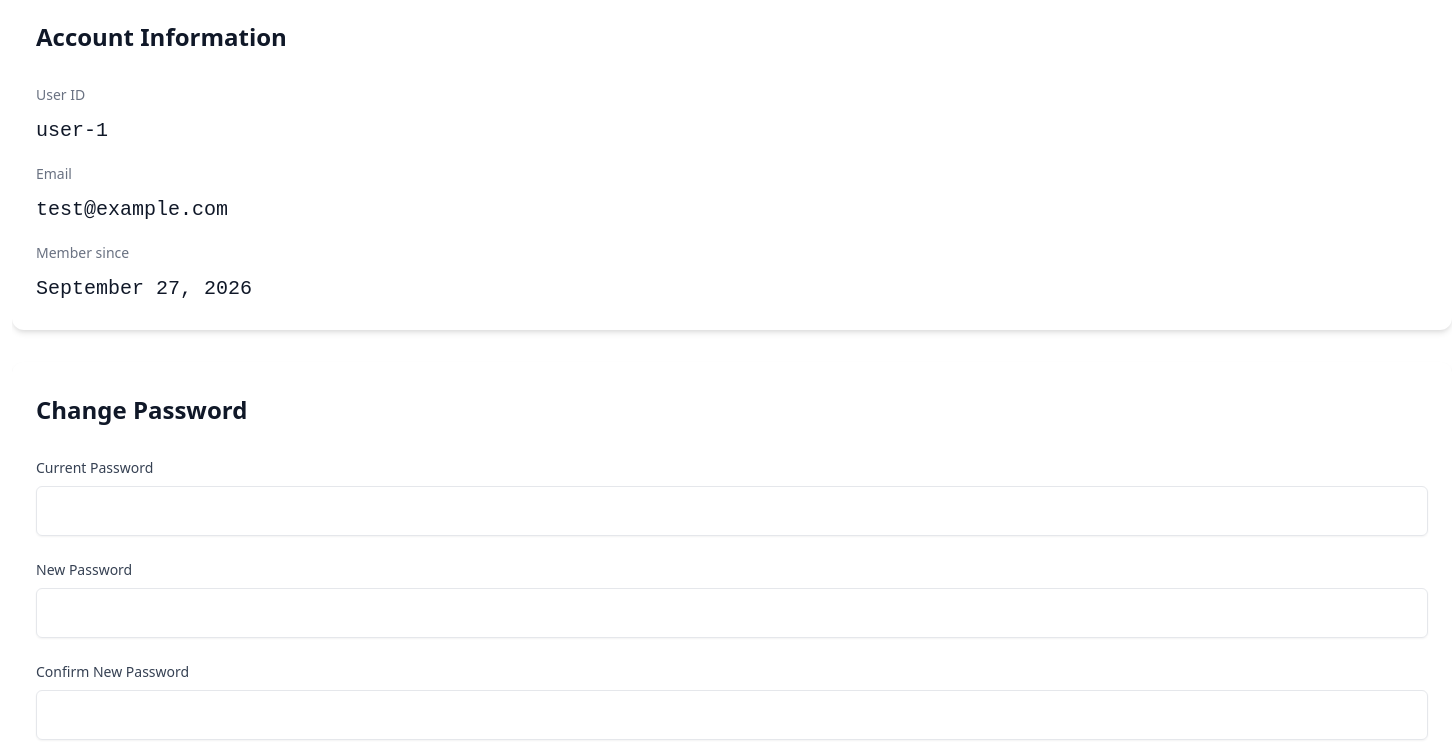
Test case: AccountPage password change › returns the user to login after password change invalidates the current session
Check: the heading "Account Information" is shown, box [36, 20, 287, 53]
In the password field labelled "Current Password": (732, 511) [36, 486, 1428, 536], type "CurrentPassword123!"
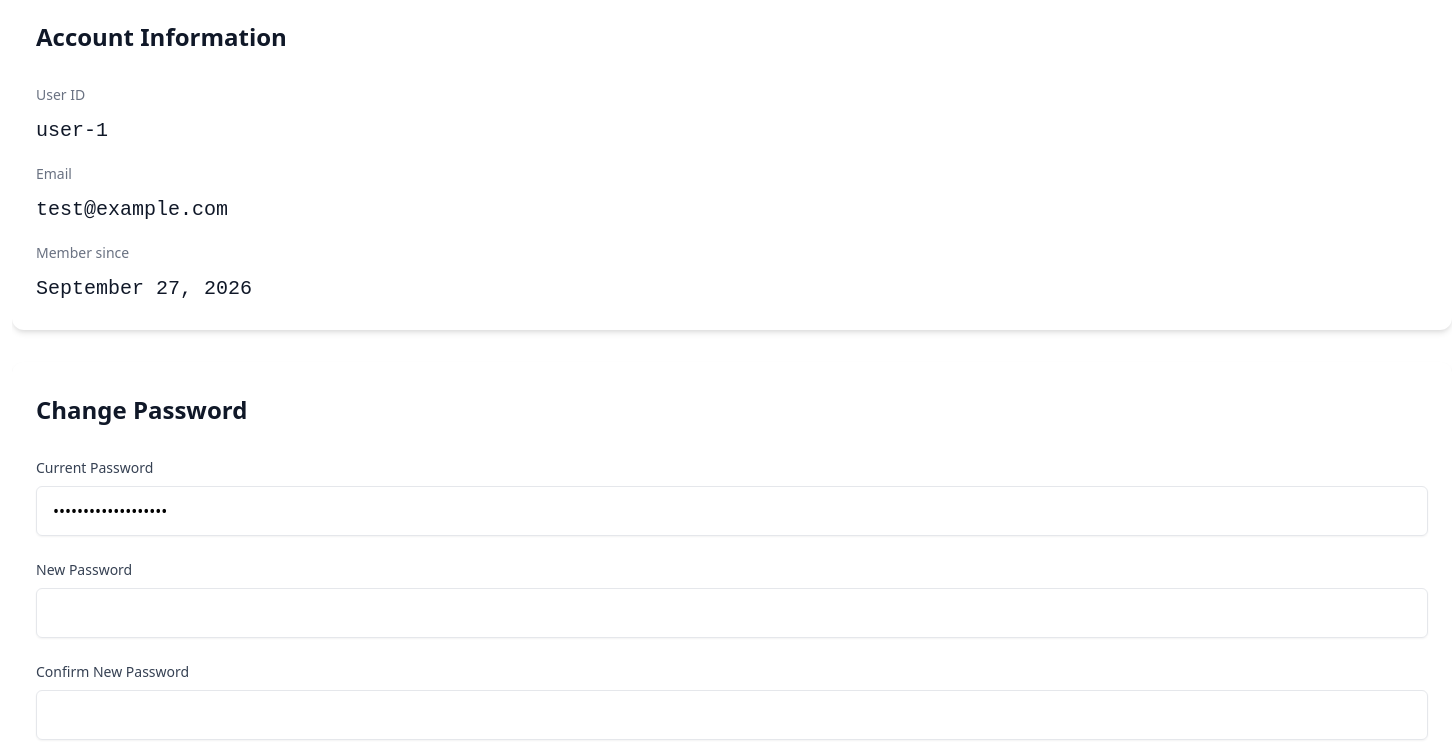
In the password field labelled "New Password": (732, 613) [36, 588, 1428, 638], type "NewPassword456!"
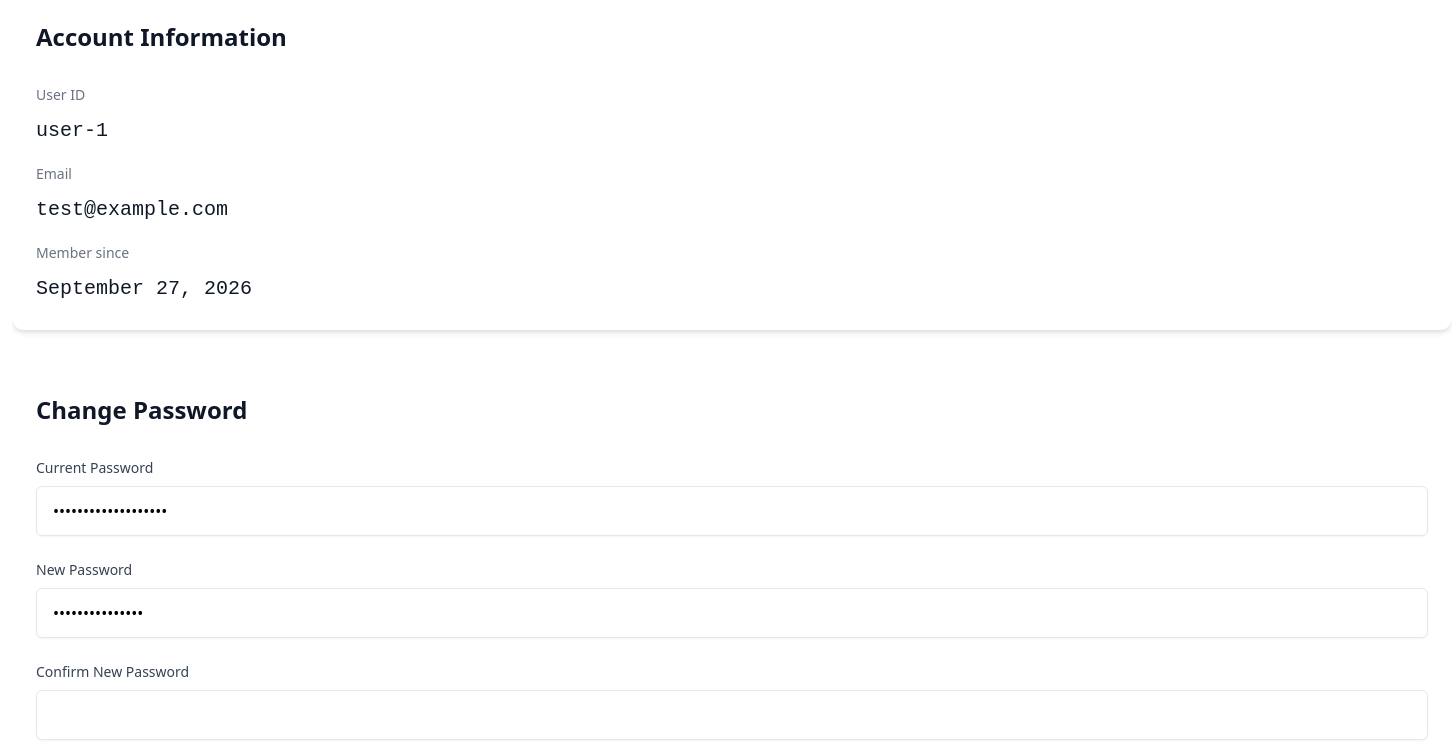
In the password field labelled "Confirm New Password": (732, 715) [36, 690, 1428, 740], type "NewPassword456!"
(page scrolled)
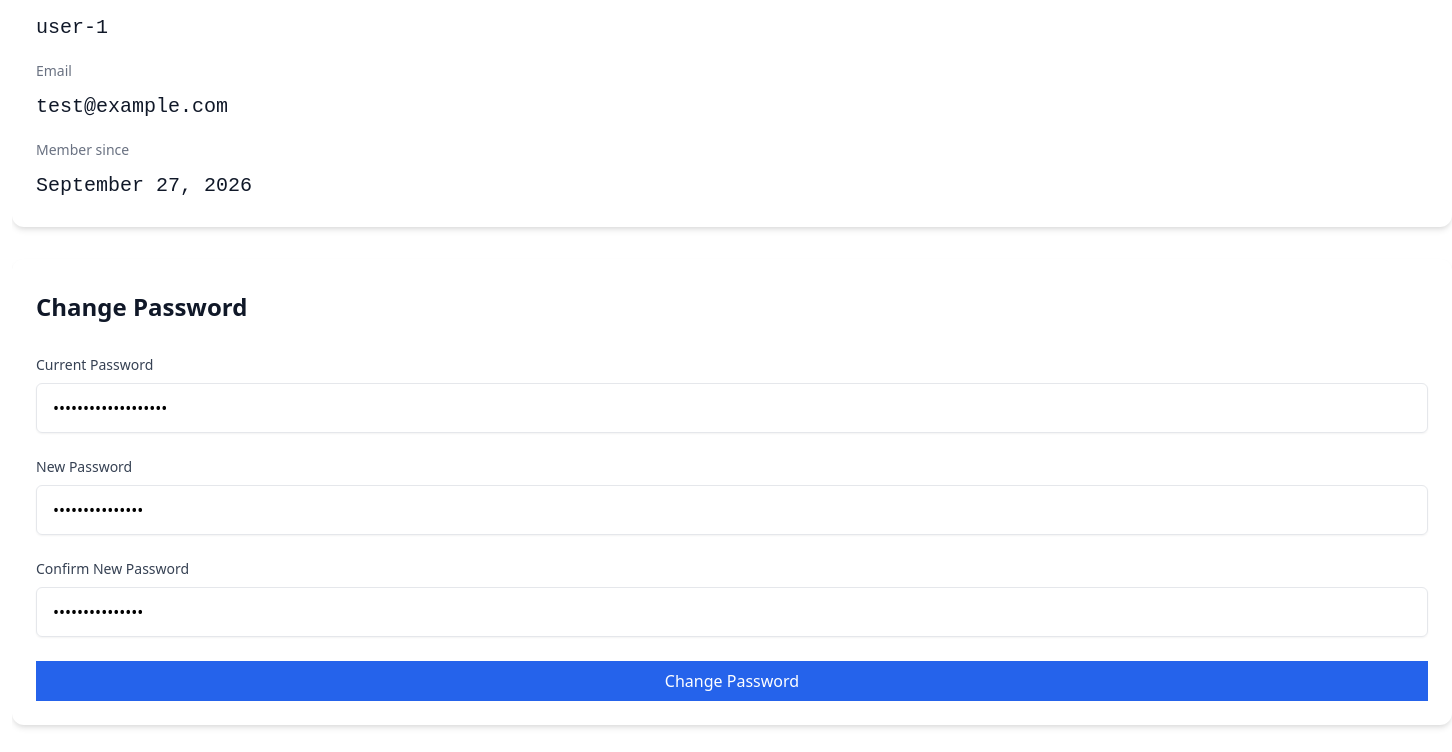
Click the button "Change Password": (732, 681) [36, 661, 1428, 701]
Wait 2000 ms
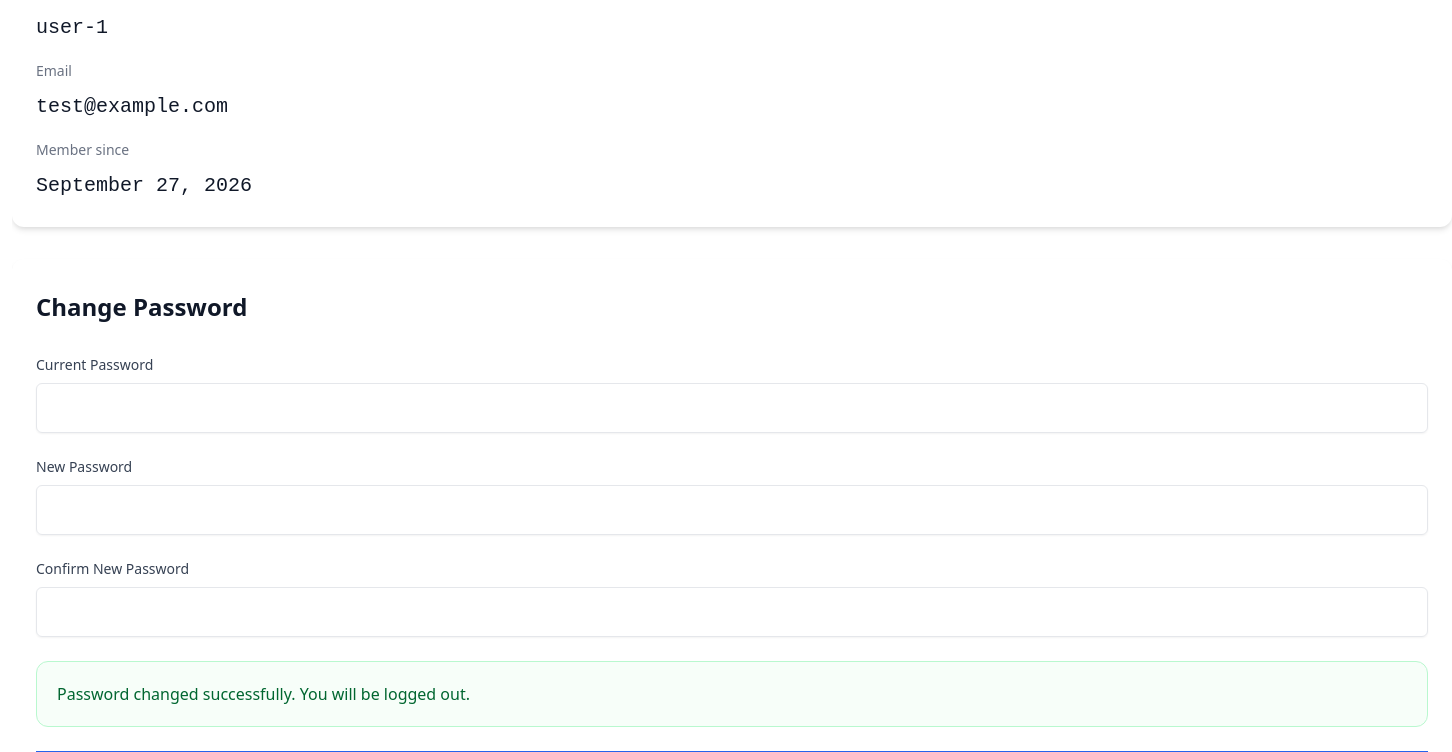
Check: the text "Password changed successfully. You will be logged out." is shown, box [36, 661, 1428, 727]
